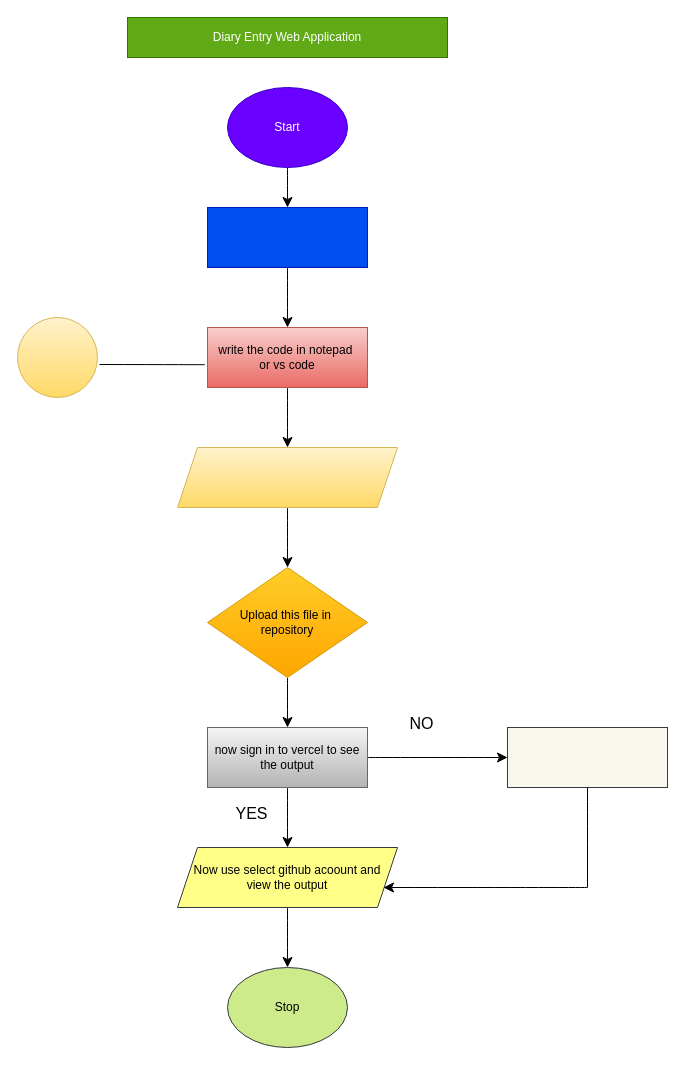
This 685x1065 diagram has some shape labels left out. The shapes that lost their labels are listed below. From the top down, each one's centre as x and y in pixels, then its label:
the point at 287,237: Thinking of creating a Diary application
the point at 57,357: Using HTML and CSS and js
the point at 287,477: integrate this code in files and add them by using extensions
the point at 587,757: Signup if there is no previously signed in
